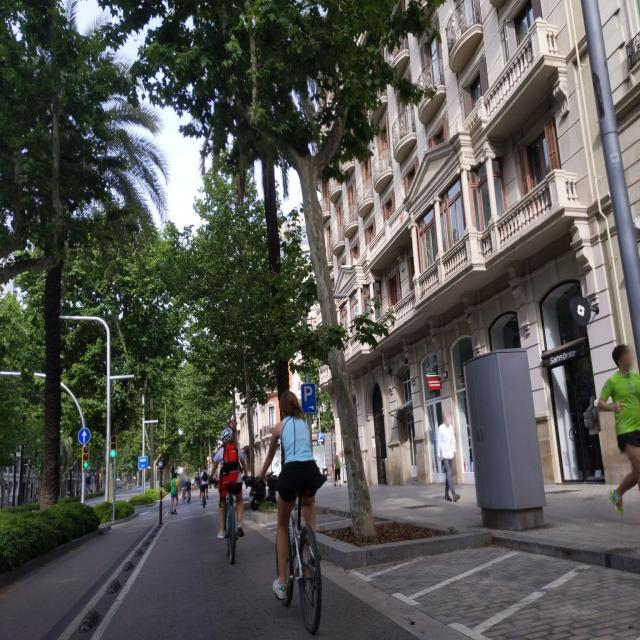bike: (269, 459, 325, 637)
